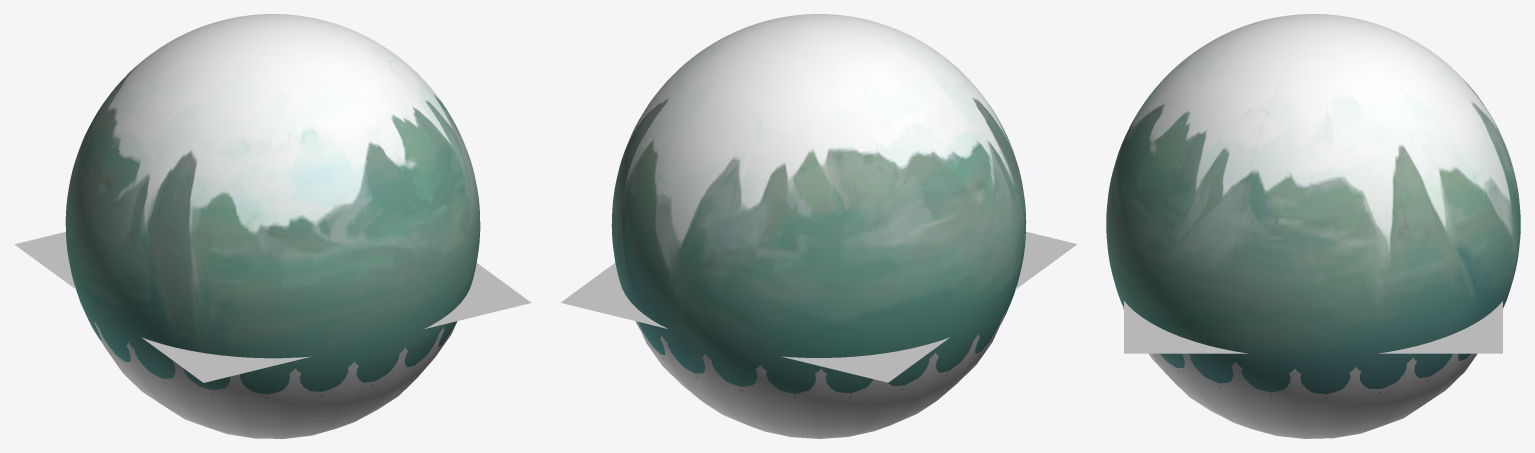
File: mountains_scene_full copy.dae
The picture shows the model from 3 angles, left to right: view 1: azimuth 30°, elevation 25°; view 2: azimuth 150°, elevation 25°; view 3: azimuth 270°, elevation 25°; orthographic projection.
Parts seen in each view (by area): view 1: skysphere, backbillboards, cloudfloor; view 2: skysphere, backbillboards, cloudfloor; view 3: skysphere, backbillboards, cloudfloor.
Part boxes in pixels (bbox=[...]): skysphere: bbox=[65, 14, 480, 398]; backbillboards: bbox=[79, 298, 457, 438]; cloudfloor: bbox=[14, 232, 531, 382]; skysphere: bbox=[611, 14, 1026, 398]; backbillboards: bbox=[636, 311, 1005, 438]; cloudfloor: bbox=[560, 231, 1077, 382]; skysphere: bbox=[1106, 14, 1520, 398]; backbillboards: bbox=[1122, 305, 1477, 438]; cloudfloor: bbox=[1124, 301, 1502, 353].
Size of the model in its own units: 118 by 121 by 118.
